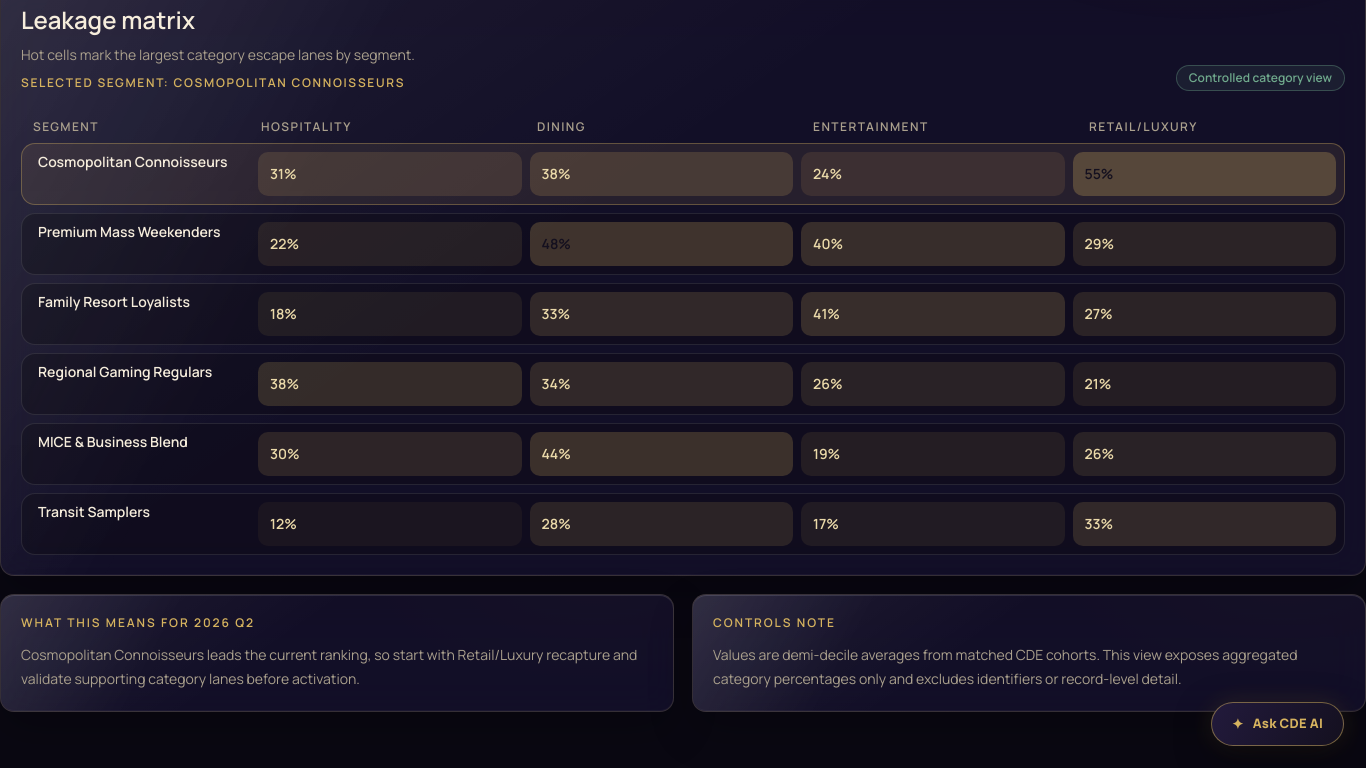
Test: ConstellationRedesignScreen › selects a Leakage matrix row and updates the visible segment context
(page scrolled)
Step 1. Click the button named "Select Regional Gaming Regulars" → x=683, y=384, box [21,353,1345,415]
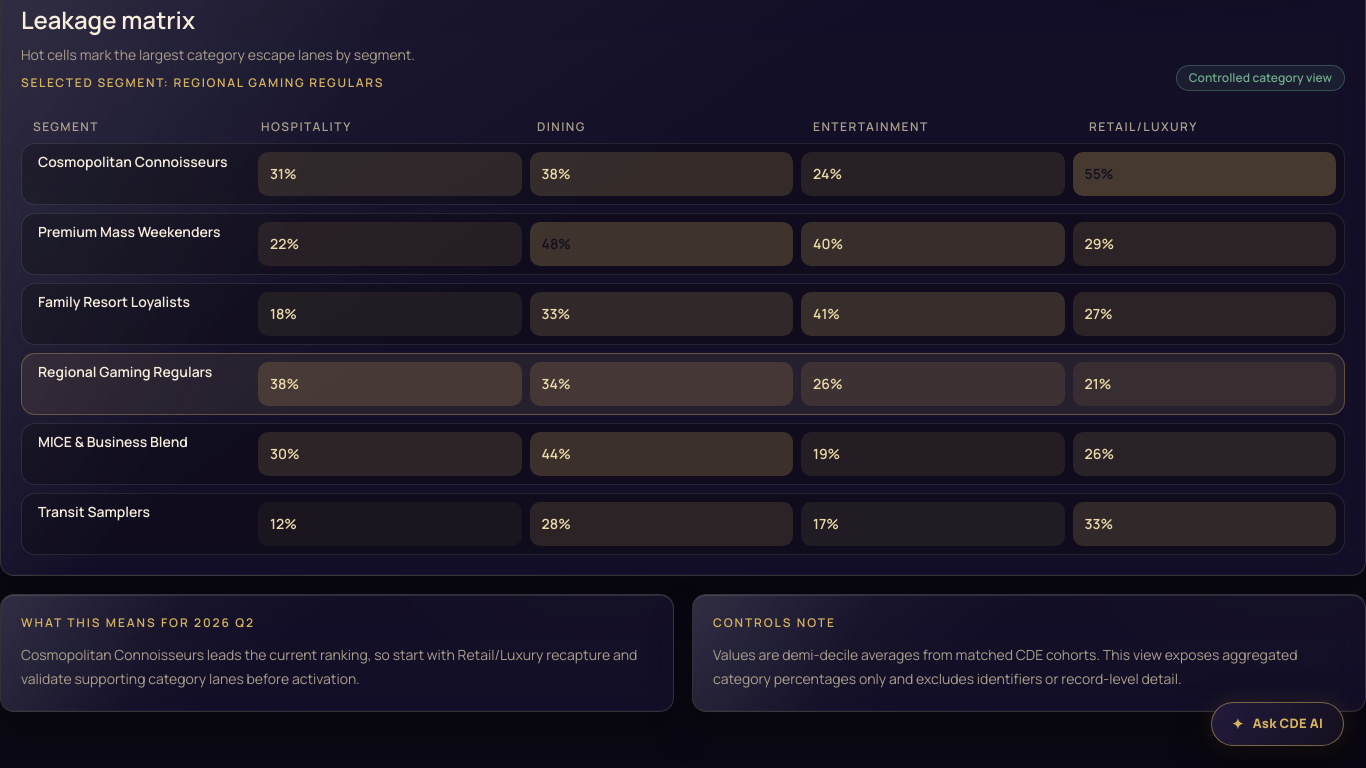
Check: the text "Selected segment: Regional Gaming Regulars" is shown, box [21,75,415,91]
